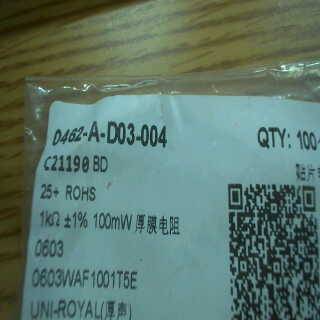1kR: (33, 207, 61, 232)
